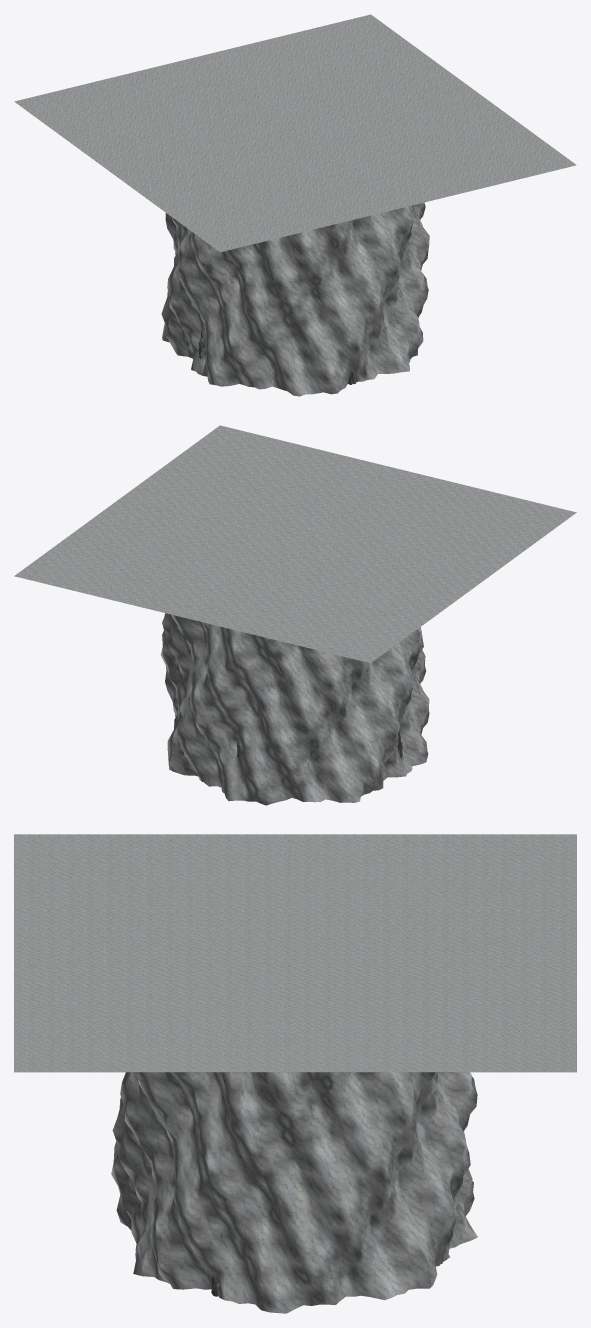
Rendered from room.glb.
3 renders of one model, top to bottom at view 1: azimuth 30°, elevation 25°; view 2: azimuth 150°, elevation 25°; view 3: azimuth 270°, elevation 25°, orthographic. The views are drawn at different scales.
Visible parts, largest first — view 1: STONE-BRIDGE; view 2: STONE-BRIDGE; view 3: STONE-BRIDGE.
Part boxes in pixels (x1=…): STONE-BRIDGE: x1=14, y1=14, x2=576, y2=396; STONE-BRIDGE: x1=14, y1=425, x2=576, y2=805; STONE-BRIDGE: x1=14, y1=834, x2=576, y2=1313.
Size of the model in its own units: 95.2 by 53 by 95.2.
1 material, 1 textured.
